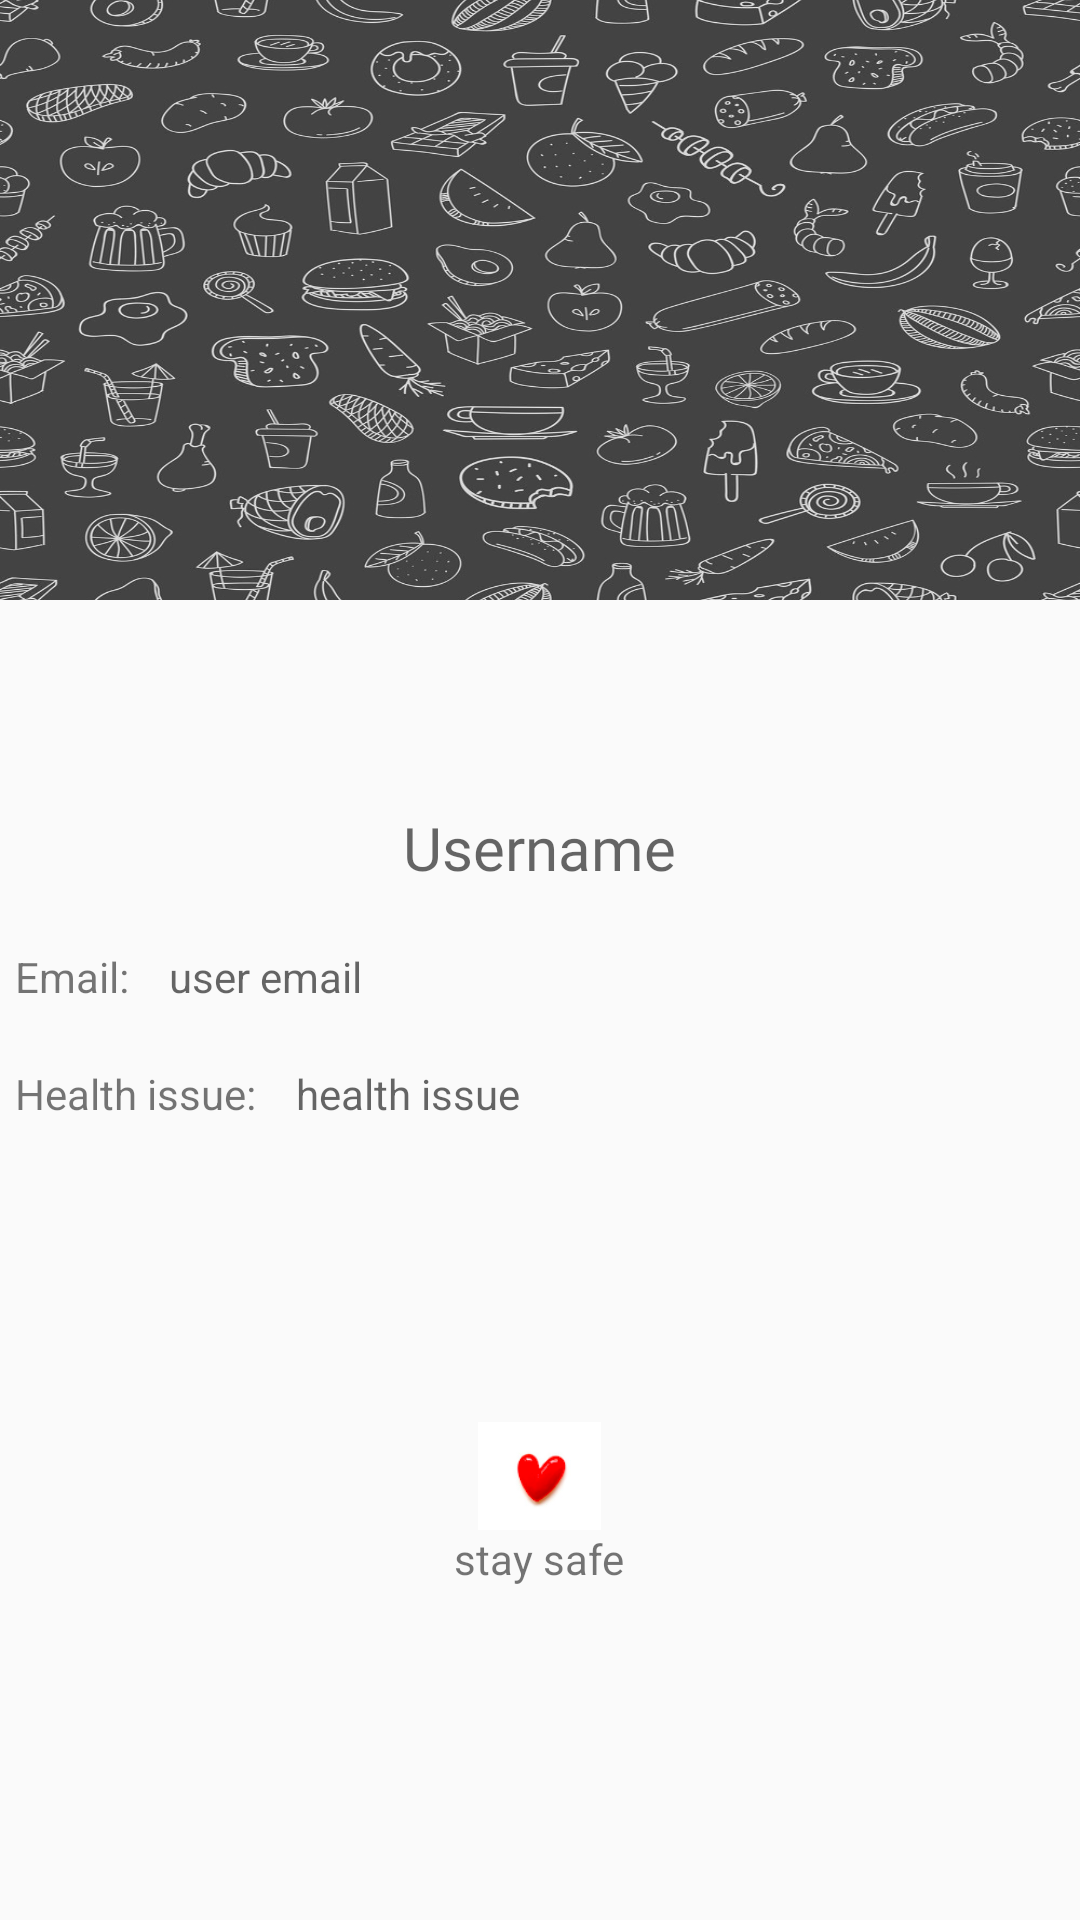

Icon bounding boxes for this 1080×1920 phone screenshot, format [left=x1, top=y1, right=x2, bottom=y2]:
heart: [left=517, top=1453, right=567, bottom=1506]
